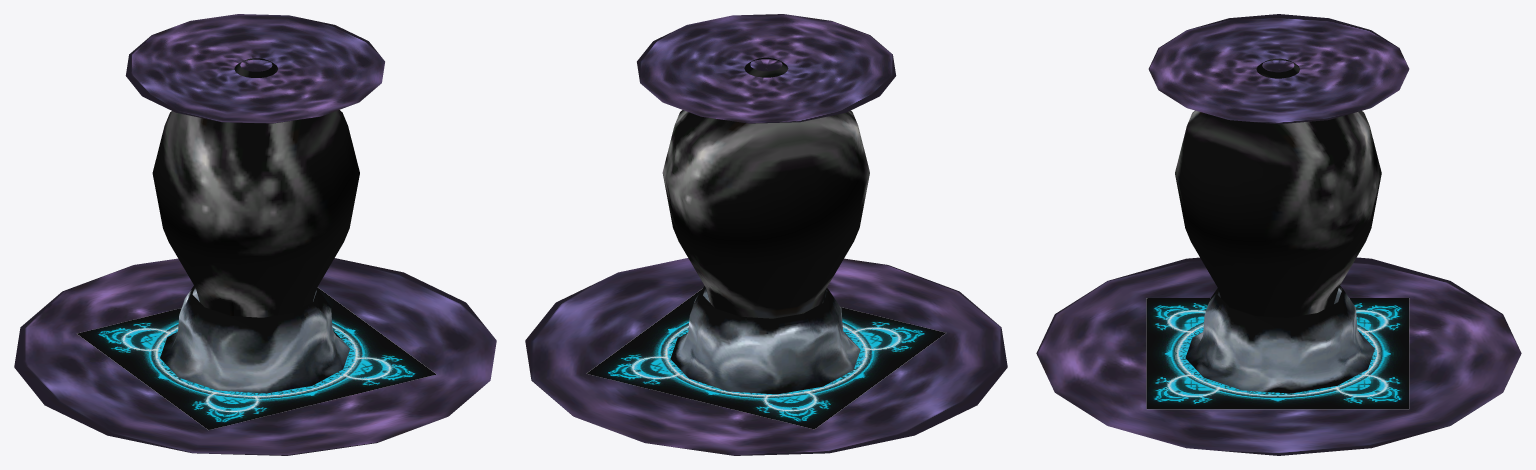
Rendered from SpellBookCircle.obj.
The picture shows the model from 3 angles, left to right: view 1: azimuth 30°, elevation 25°; view 2: azimuth 150°, elevation 25°; view 3: azimuth 270°, elevation 25°; orthographic projection.
Parts seen in each view (by area): view 1: world_goober_g_demoniccirclesummon_base.m2_Geoset_006, world_goober_g_demoniccirclesummon_base.m2_Geoset_000, world_goober_g_demoniccirclesummon_base.m2_Geoset_005, world_goober_g_demoniccirclesummon_base.m2_Geoset_001; view 2: world_goober_g_demoniccirclesummon_base.m2_Geoset_006, world_goober_g_demoniccirclesummon_base.m2_Geoset_000, world_goober_g_demoniccirclesummon_base.m2_Geoset_005, world_goober_g_demoniccirclesummon_base.m2_Geoset_001; view 3: world_goober_g_demoniccirclesummon_base.m2_Geoset_006, world_goober_g_demoniccirclesummon_base.m2_Geoset_000, world_goober_g_demoniccirclesummon_base.m2_Geoset_005, world_goober_g_demoniccirclesummon_base.m2_Geoset_001.
Boxes of the visible parts, bbox=[...] form: world_goober_g_demoniccirclesummon_base.m2_Geoset_006: bbox=[14, 14, 496, 455]; world_goober_g_demoniccirclesummon_base.m2_Geoset_000: bbox=[152, 58, 359, 317]; world_goober_g_demoniccirclesummon_base.m2_Geoset_005: bbox=[77, 287, 436, 430]; world_goober_g_demoniccirclesummon_base.m2_Geoset_001: bbox=[160, 285, 350, 393]; world_goober_g_demoniccirclesummon_base.m2_Geoset_006: bbox=[525, 14, 1007, 455]; world_goober_g_demoniccirclesummon_base.m2_Geoset_000: bbox=[662, 57, 869, 318]; world_goober_g_demoniccirclesummon_base.m2_Geoset_005: bbox=[586, 288, 945, 429]; world_goober_g_demoniccirclesummon_base.m2_Geoset_001: bbox=[670, 286, 860, 394]; world_goober_g_demoniccirclesummon_base.m2_Geoset_006: bbox=[1036, 14, 1521, 455]; world_goober_g_demoniccirclesummon_base.m2_Geoset_000: bbox=[1175, 58, 1381, 317]; world_goober_g_demoniccirclesummon_base.m2_Geoset_005: bbox=[1146, 298, 1409, 409]; world_goober_g_demoniccirclesummon_base.m2_Geoset_001: bbox=[1185, 286, 1374, 393].
Size of the model in its own units: 5.79 by 3.88 by 5.79.
Materials: 6 (6 with a texture image).
